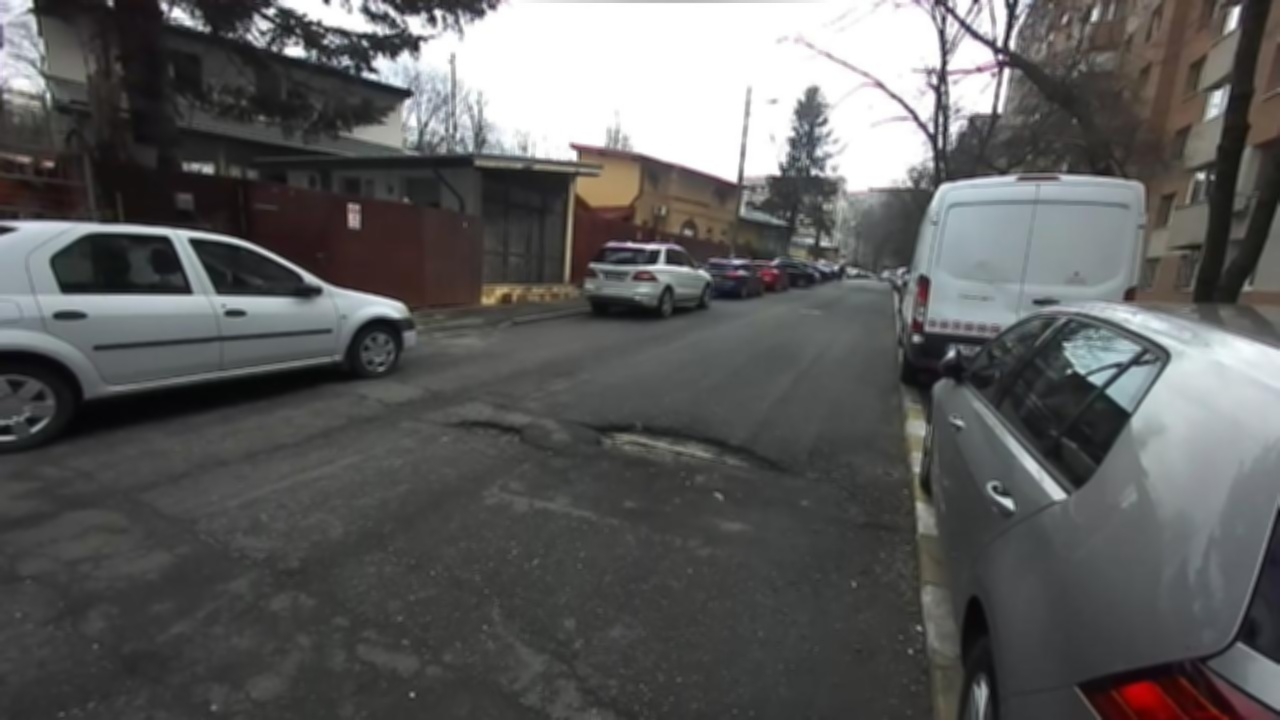pothole: (565, 412, 811, 485), (434, 415, 553, 455)
